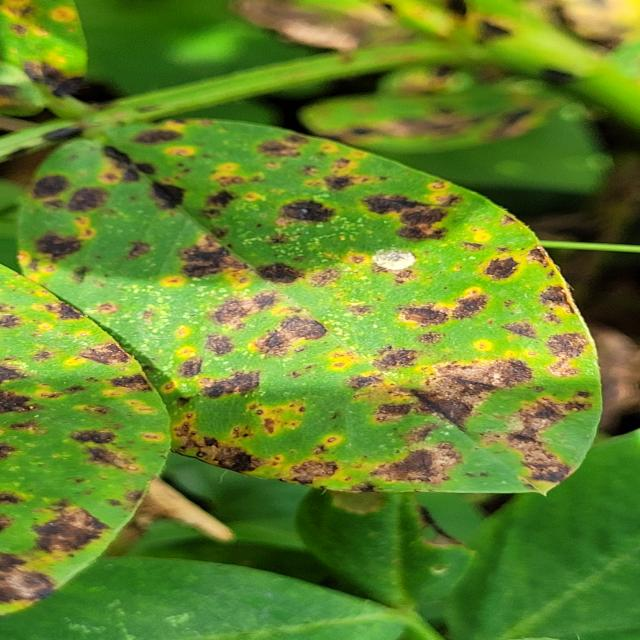Ground nut_tikka leaf spot: (23, 116, 599, 499)
